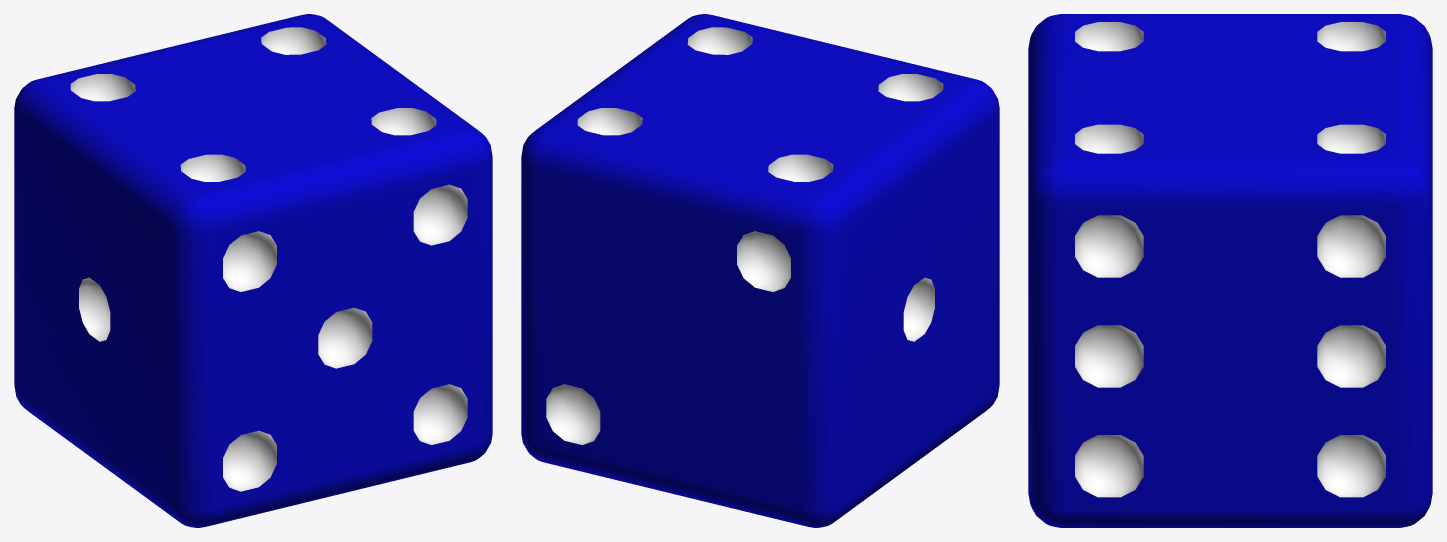
File: dice_blueDark.dae
3 views of the same model, side by side, from view 1: azimuth 30°, elevation 25°; view 2: azimuth 150°, elevation 25°; view 3: azimuth 270°, elevation 25° (orthographic). The views are drawn at different scales.
Visible parts, largest first — view 1: dice_blueDark; view 2: dice_blueDark; view 3: dice_blueDark.
Part boxes in pixels (box(x1,y1,x2,y2)): dice_blueDark: box(14, 14, 492, 527); dice_blueDark: box(521, 14, 999, 527); dice_blueDark: box(1028, 14, 1432, 527).
Bounding box in the file's own units: 5 × 5 × 5.
Materials: 1 (1 with a texture image).
